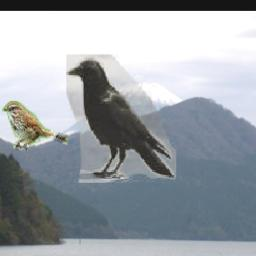Crow: (66, 54, 176, 183)
Sparrow: (3, 101, 68, 150)
